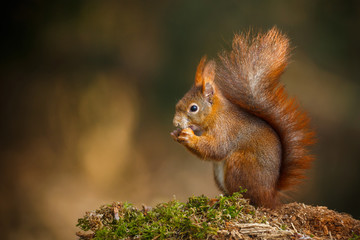squirrel: (170, 25, 314, 205)
